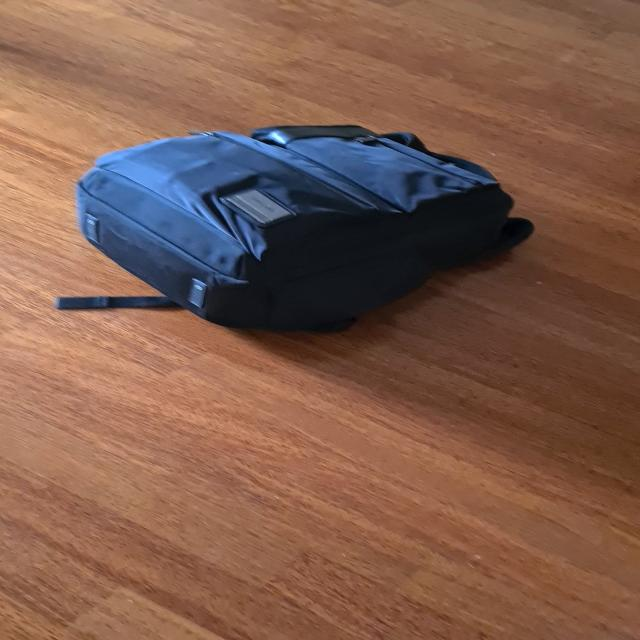backpack: (62, 116, 547, 337)
